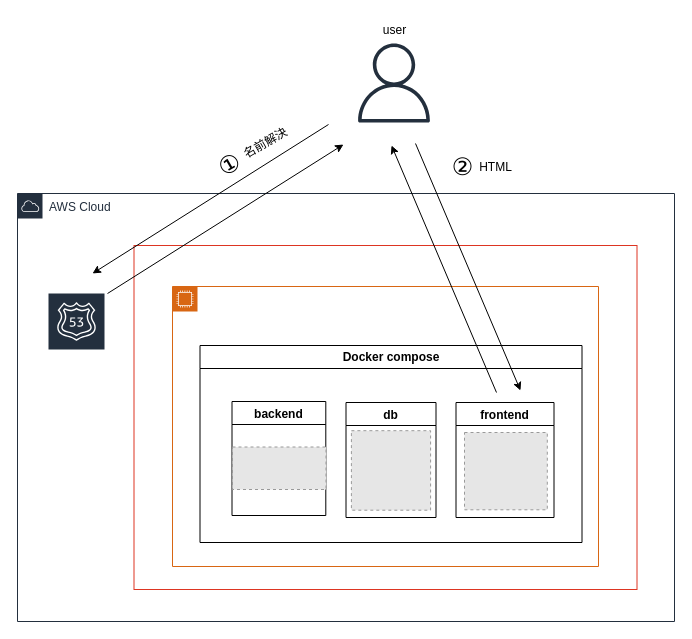
Image size: 692x639. Some labels were removed from this diagram. Grey dashed boxes stand in for pictures. The shapes that lost their labels are listed below. From the top down, each one's box as (x1, y1, x2, y2) in pixels, then its label:
(46, 292, 106, 382): Amazon Route 53
(133, 244, 637, 590): Security group
(172, 286, 598, 566): EC2 instance contents
